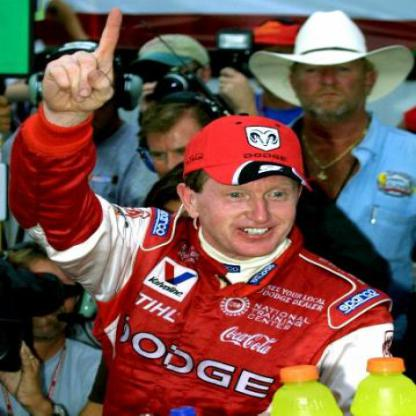face: (196, 123, 302, 261), (144, 104, 222, 196), (296, 32, 369, 119)
